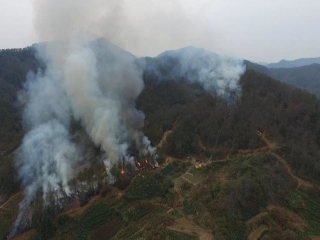smoke: (14, 14, 160, 202), (185, 41, 248, 108)
